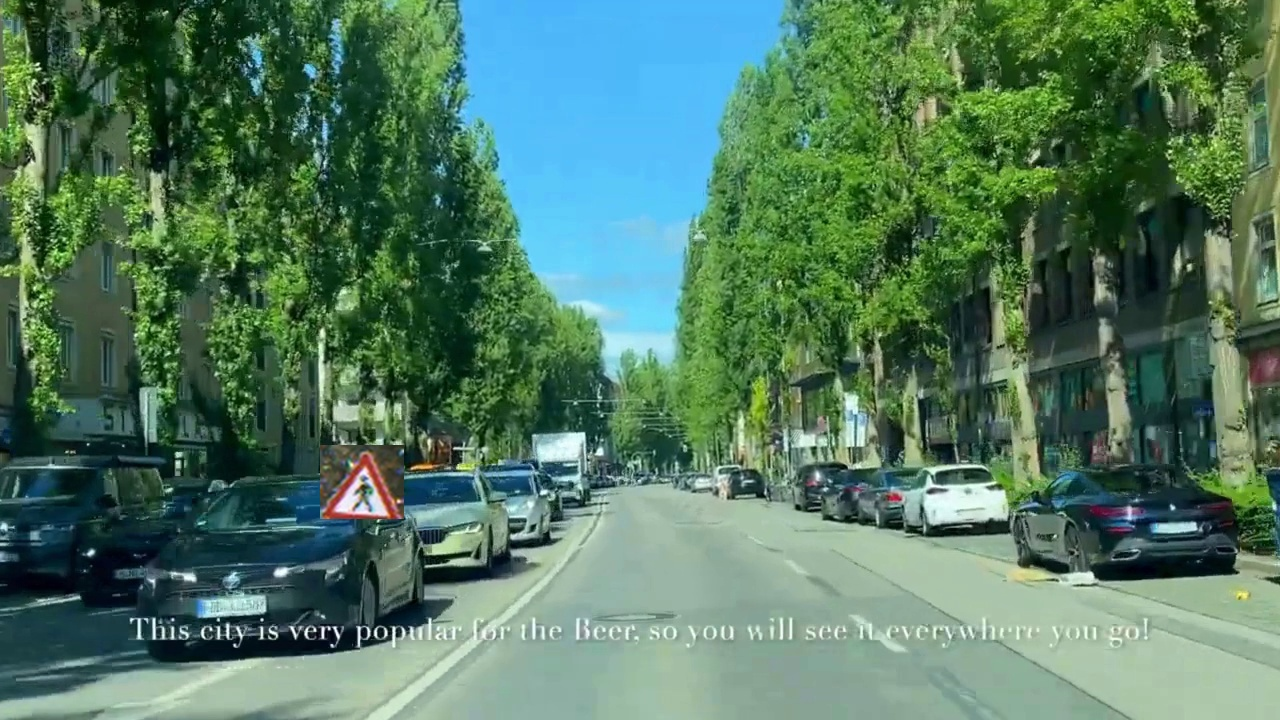Pedestrians: (320, 445, 404, 519)
